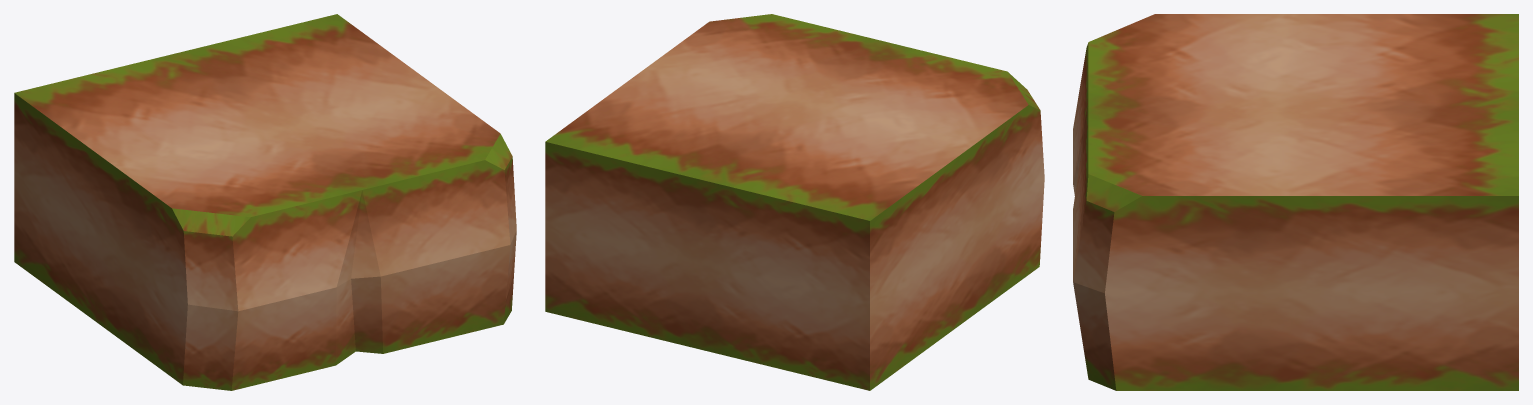
Rendered from CliffFaceTile04_1x1x2.fbx.
3 renders of one model, left to right at view 1: azimuth 30°, elevation 25°; view 2: azimuth 150°, elevation 25°; view 3: azimuth 270°, elevation 25°, orthographic. The views are drawn at different scales.
Visible parts, largest first — view 1: Cube; view 2: Cube; view 3: Cube.
Part boxes in pixels (x1=…): Cube: x1=14, y1=14, x2=516, y2=390; Cube: x1=545, y1=14, x2=1044, y2=390; Cube: x1=1073, y1=14, x2=1518, y2=390.
Size of the model in its own units: 2 by 2.07 by 1.
